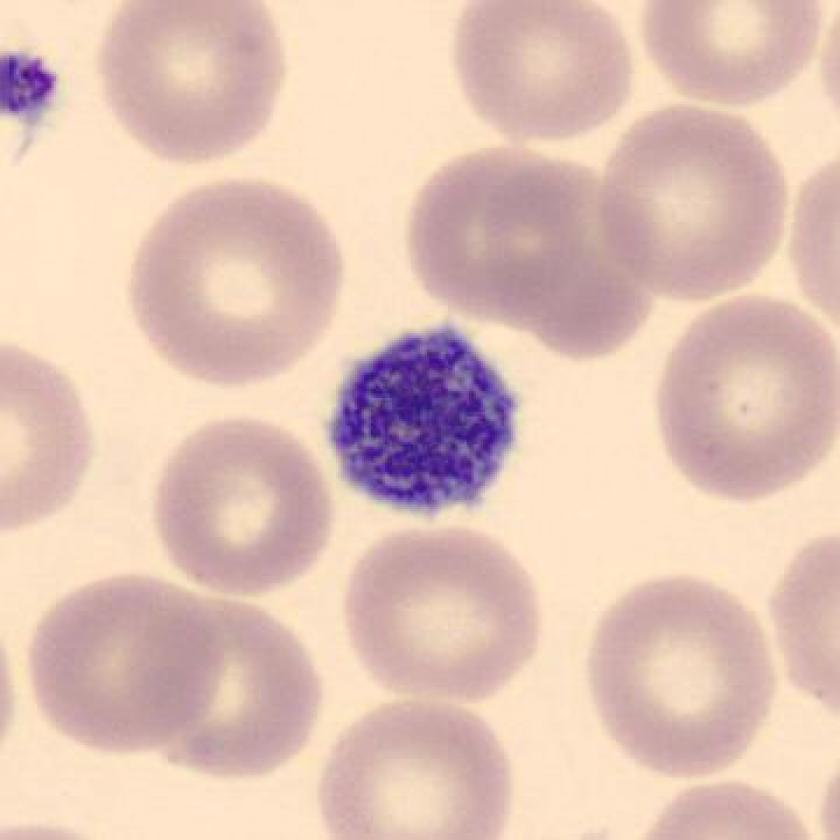platelets: (312, 313, 536, 531)
